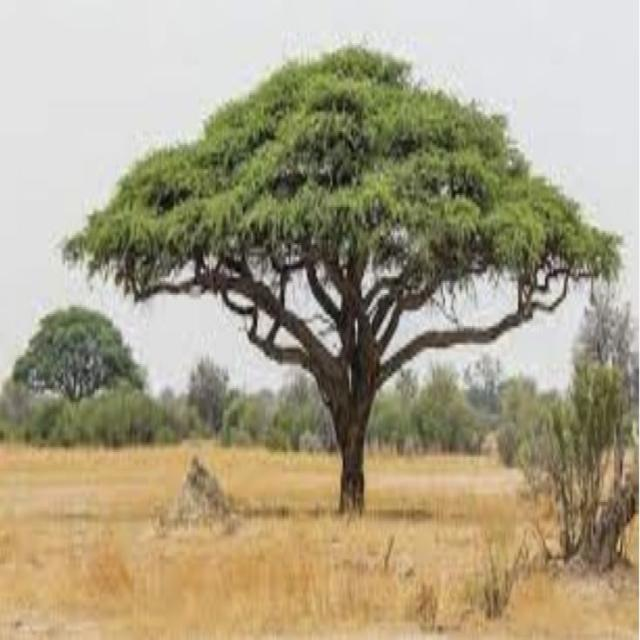Acacia: (208, 81, 470, 475), (16, 299, 141, 408)
